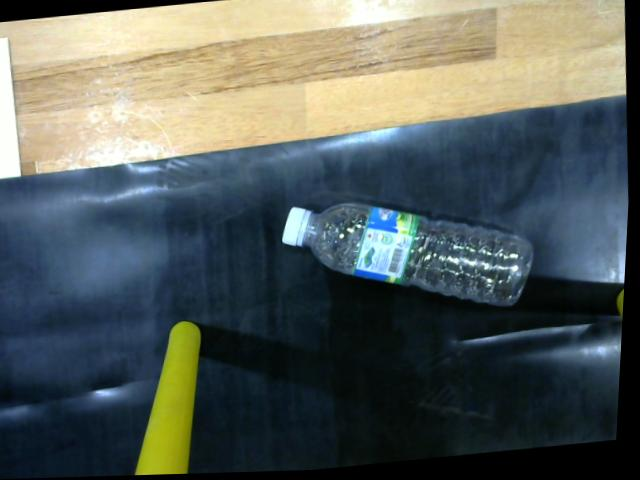bottle: (275, 200, 541, 321)
